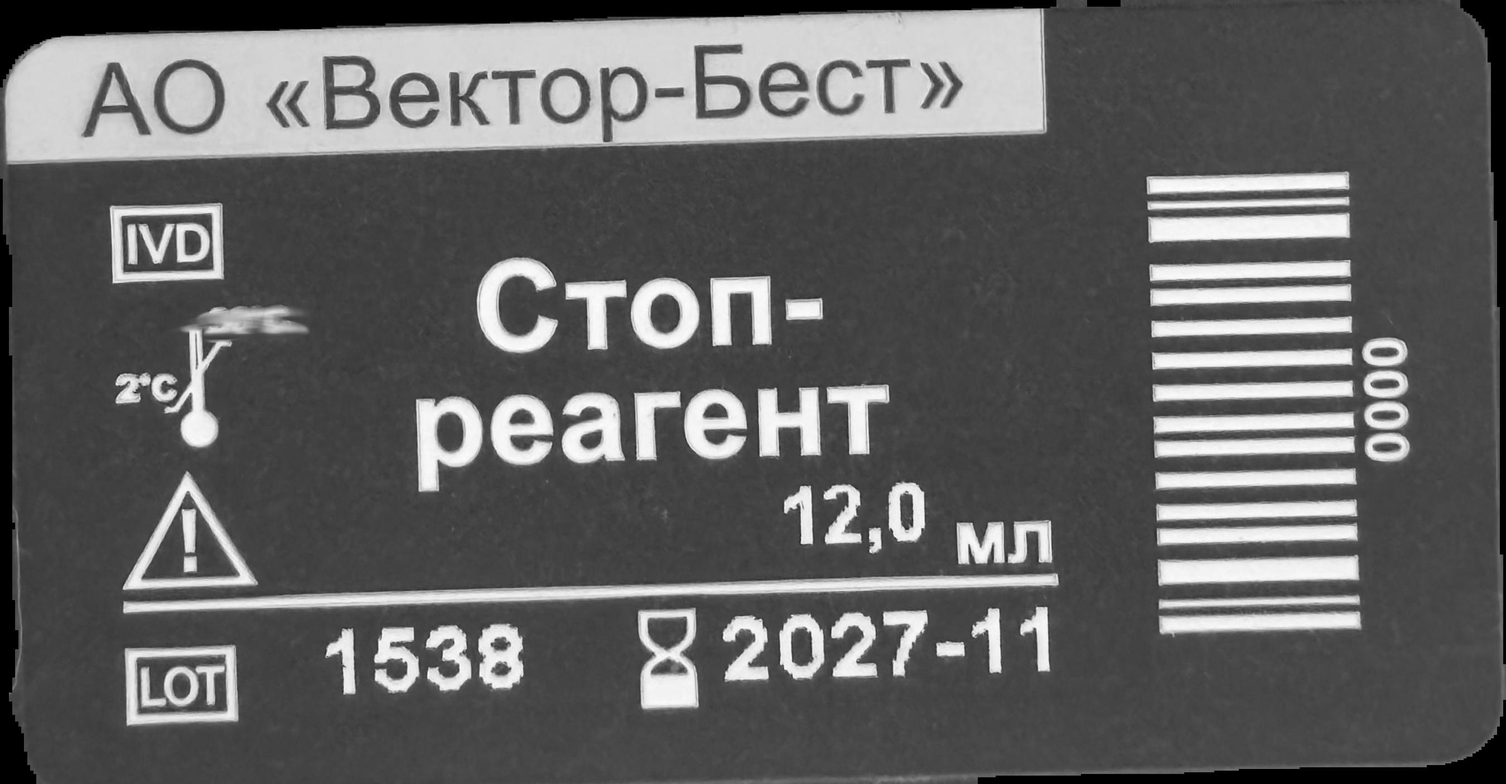something: (1142, 170, 1365, 636), (107, 301, 313, 460), (121, 468, 261, 591), (106, 199, 224, 280), (121, 647, 240, 726), (634, 608, 701, 713)
text: (413, 237, 892, 497), (78, 38, 964, 147), (721, 598, 1057, 687), (779, 477, 1064, 569), (323, 620, 528, 700), (1358, 335, 1413, 468)
